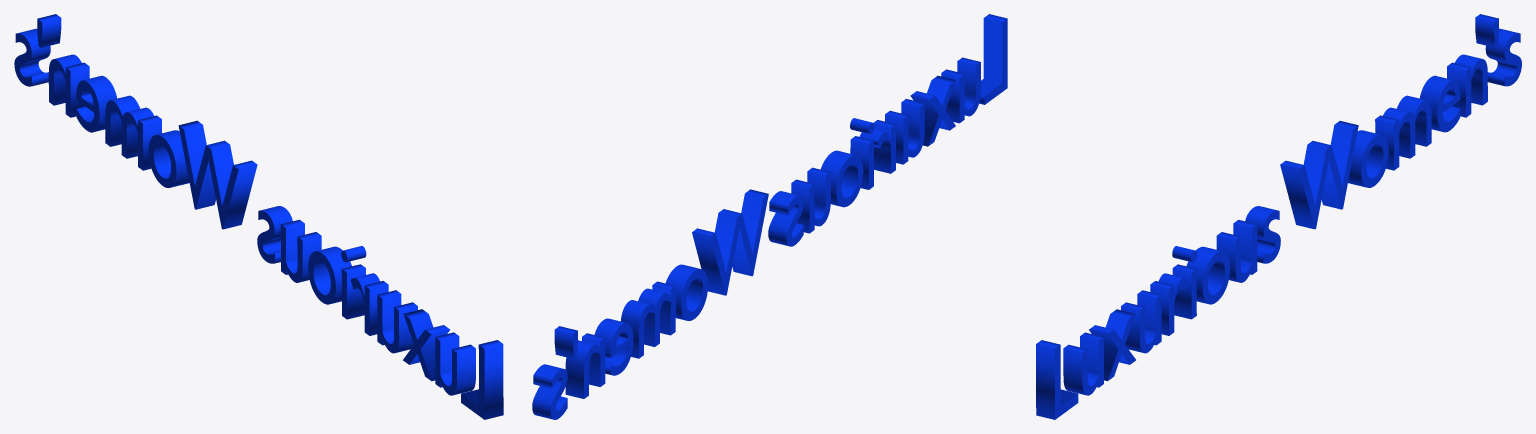
The picture shows the model from 3 angles, left to right: view 1: azimuth 30°, elevation 25°; view 2: azimuth 150°, elevation 25°; view 3: azimuth 330°, elevation 25°; orthographic projection. The views are drawn at different scales.
Parts seen in each view (by area): view 1: LW_LOD0; view 2: LW_LOD0; view 3: LW_LOD0.
Boxes of the visible parts, x1,y1,x2,y2 form: LW_LOD0: (14,14,503,419); LW_LOD0: (532,14,1007,419); LW_LOD0: (1036,14,1521,419).
Size of what is drawn, in the model's own units: 26.88 by 96.3 by 1075.
